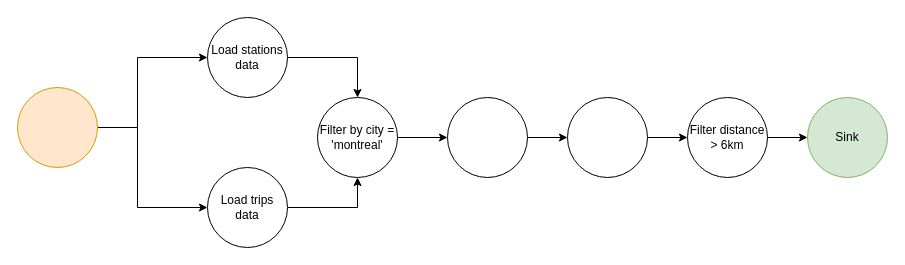
The diagram is 905 pixels wide and 265 high, and some of its shapes have lost their labels. The centre of each missing label's shape, as x and y in pixels:
"Calculate distance from start to end station" goes at (x=607, y=137).
"Join by year and code" goes at (x=487, y=137).
"Source" goes at (x=57, y=127).
